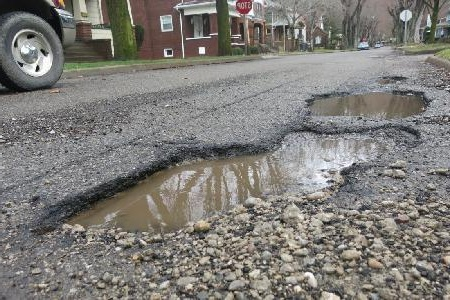pothole: (36, 123, 423, 244), (304, 86, 434, 120), (378, 71, 410, 84)
